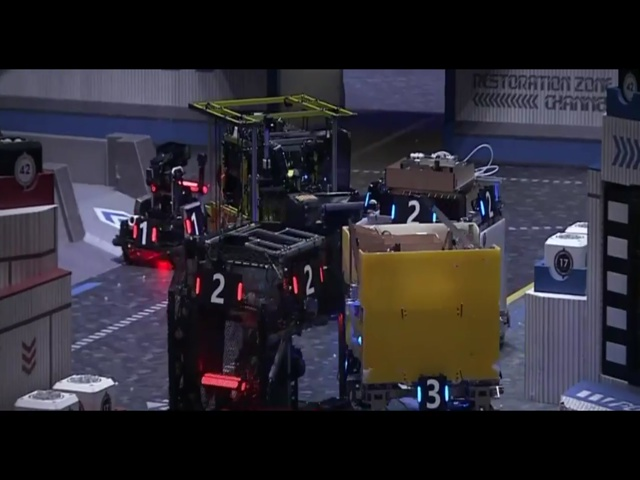bluePlate: (389, 196, 441, 227), (415, 377, 451, 407), (476, 188, 502, 224)
redPlate: (186, 268, 253, 313), (127, 211, 160, 251), (289, 263, 327, 295), (182, 212, 202, 238)
